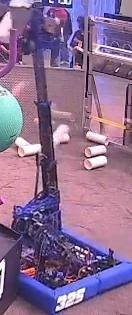blue_number: (53, 285, 89, 313)
